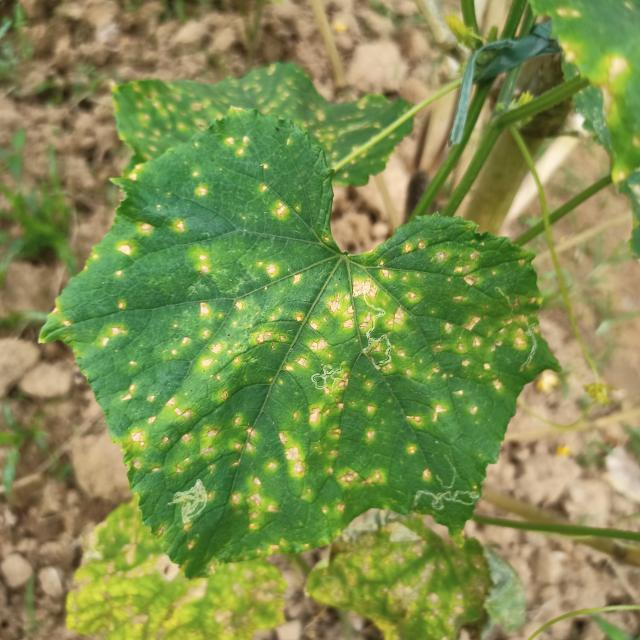disease_cucumber: (97, 239, 525, 556), (259, 181, 302, 222), (132, 215, 197, 240), (186, 167, 214, 204), (224, 132, 251, 160)
